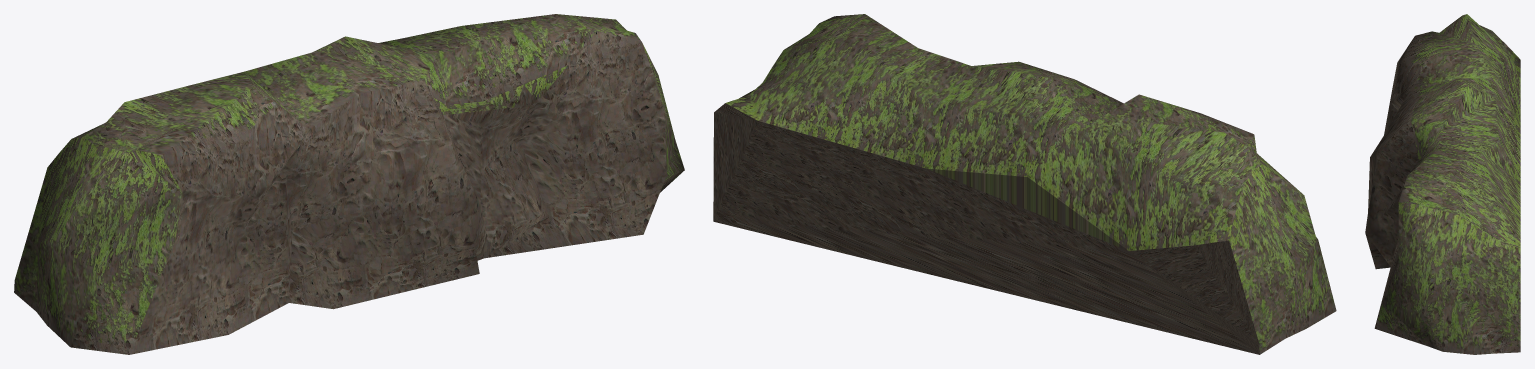
Rendered from thm_nboo_thed_imprv_seawall_rocks_s01_l2.fbx.
3 views of the same model, side by side, from view 1: azimuth 30°, elevation 25°; view 2: azimuth 150°, elevation 25°; view 3: azimuth 270°, elevation 25° (orthographic). The views are drawn at different scales.
Visible parts, largest first — view 1: mesh_node; view 2: mesh_node; view 3: mesh_node.
Boxes of the visible parts, x1=… form: mesh_node: x1=14, y1=14, x2=684, y2=354; mesh_node: x1=713, y1=14, x2=1336, y2=354; mesh_node: x1=1365, y1=14, x2=1520, y2=354.
Size of the model in its own units: 27.54 by 8.94 by 8.05.
